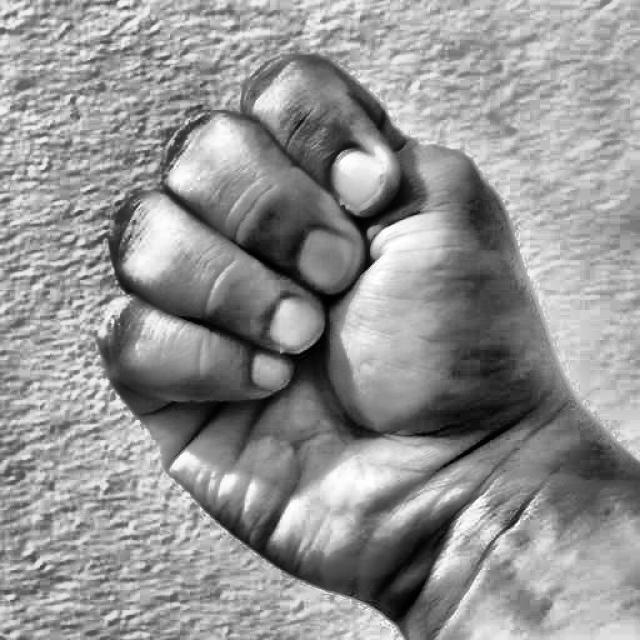To: (63, 26, 581, 614)
